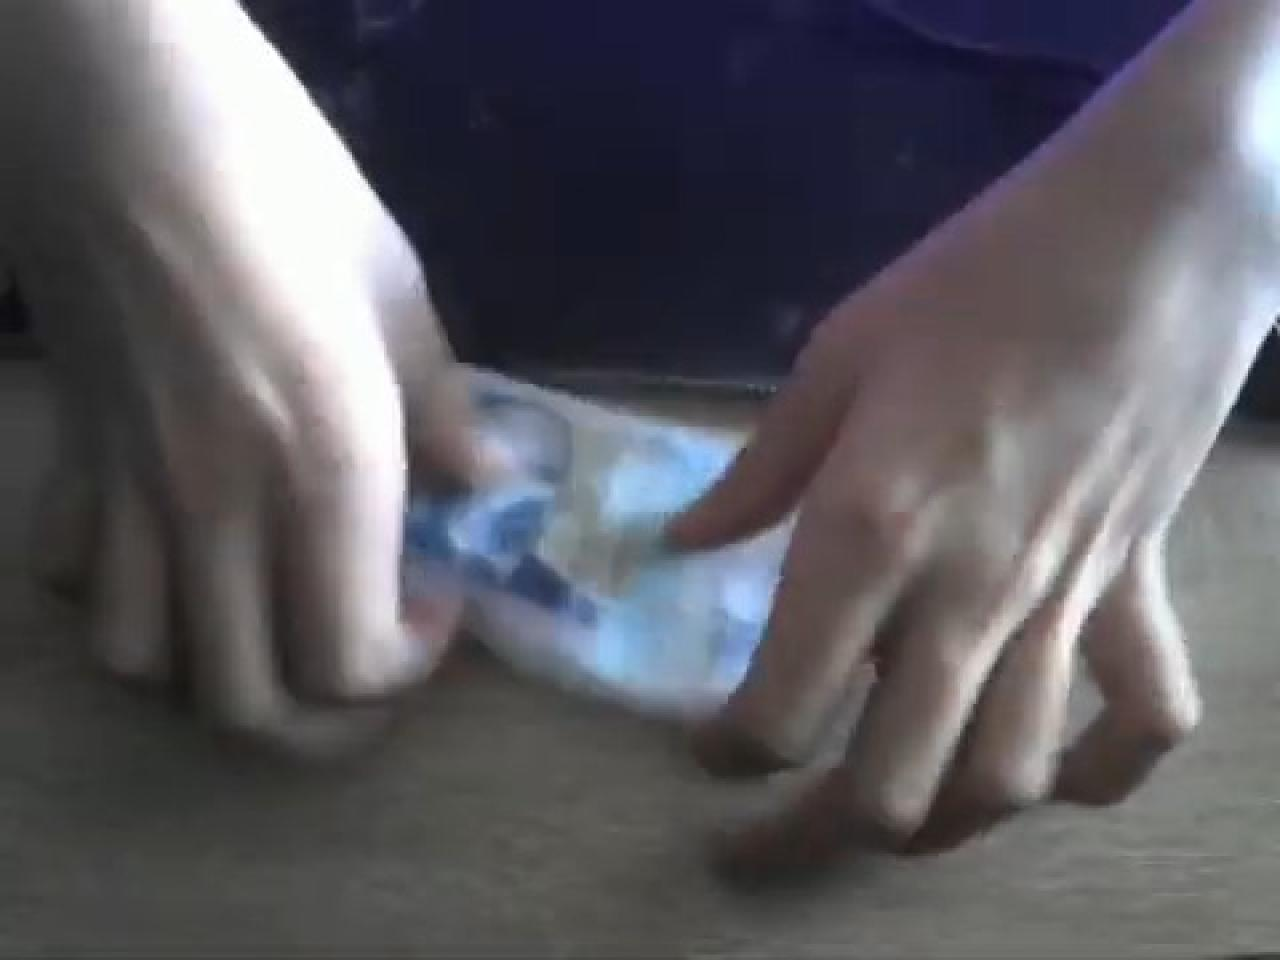20leva: (0, 0, 1277, 890)
